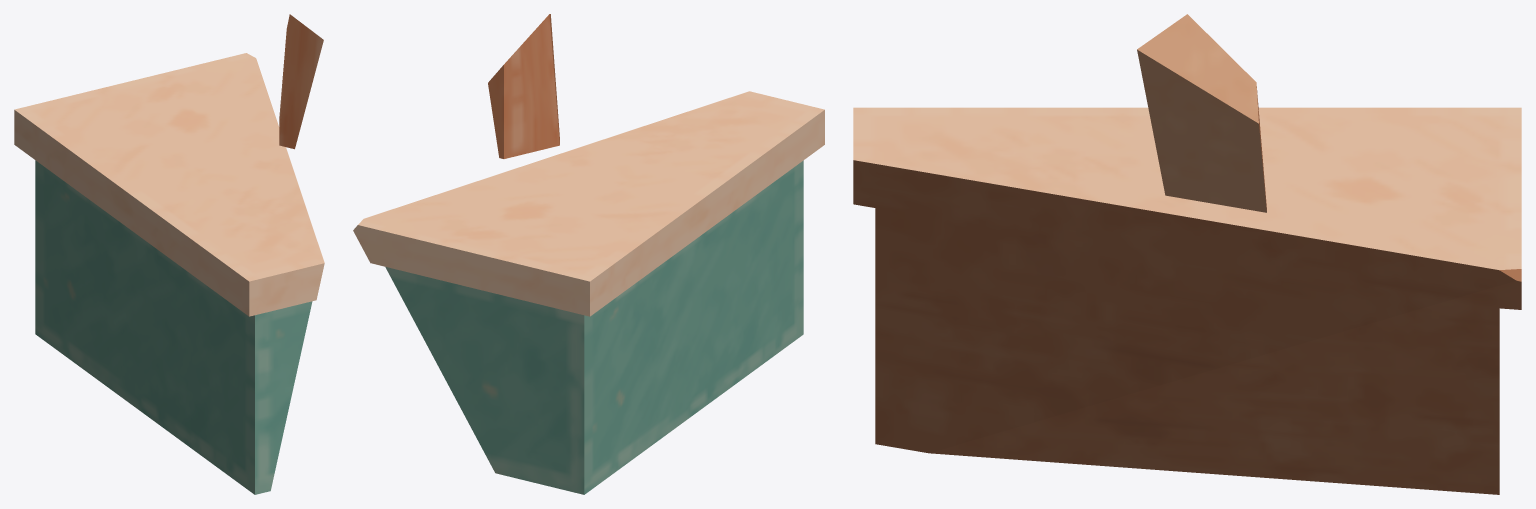
File: tree_s06.fbx
3 views of the same model, side by side, from view 1: azimuth 30°, elevation 25°; view 2: azimuth 150°, elevation 25°; view 3: azimuth 270°, elevation 25° (orthographic). The views are drawn at different scales.
Parts seen in each view (by area): view 1: tree_s06; view 2: tree_s06; view 3: tree_s06.
Part boxes in pixels (x1,y1,x2,y2): tree_s06: (14,14,324,494); tree_s06: (353,14,824,494); tree_s06: (853,14,1521,494).
Bounding box in the file's own units: 2.12 × 3.12 × 3.64.
